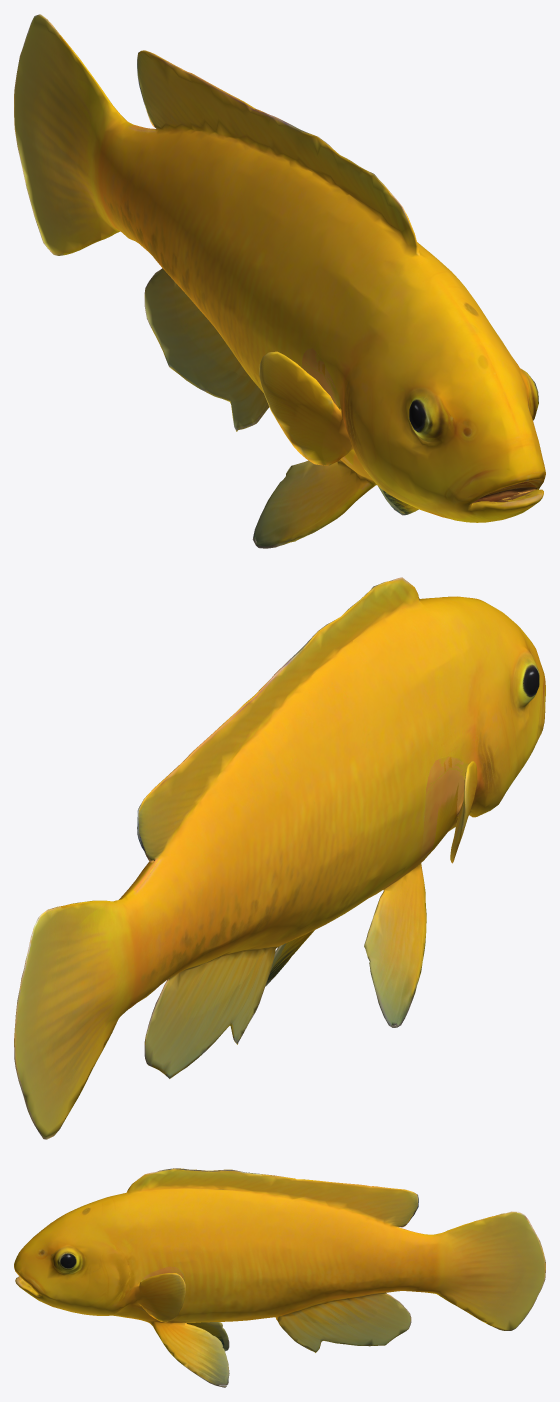
The model's file is lemon_0604065948_texture.glb.
The picture shows the model from 3 angles, top to bottom: view 1: azimuth 30°, elevation 25°; view 2: azimuth 150°, elevation 25°; view 3: azimuth 270°, elevation 25°; orthographic projection. The views are drawn at different scales.
Size of the model in its own units: 0.464 by 0.8362 by 2.
1 material, 1 textured.
